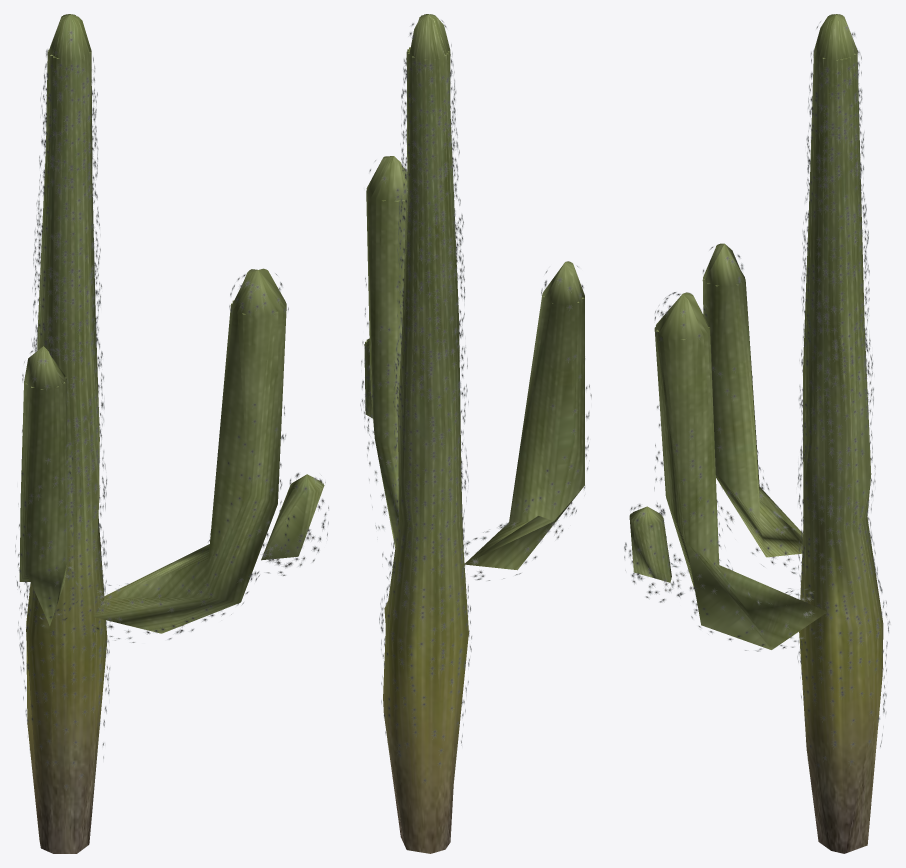
The model's file is cactus_saguaro_2.glb.
3 renders of one model, left to right at view 1: azimuth 30°, elevation 25°; view 2: azimuth 150°, elevation 25°; view 3: azimuth 270°, elevation 25°, orthographic.
Parts seen in each view (by area): view 1: prop; view 2: prop; view 3: prop.
Boxes of the visible parts, bbox=[...] form: prop: bbox=[15, 14, 328, 853]; prop: bbox=[360, 14, 591, 853]; prop: bbox=[624, 14, 889, 853].
Size of the model in its own units: 3.07 by 9.11 by 2.7.
Materials: 3 (3 with a texture image).
